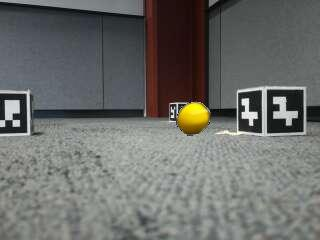lemon: (178, 105, 209, 136)
